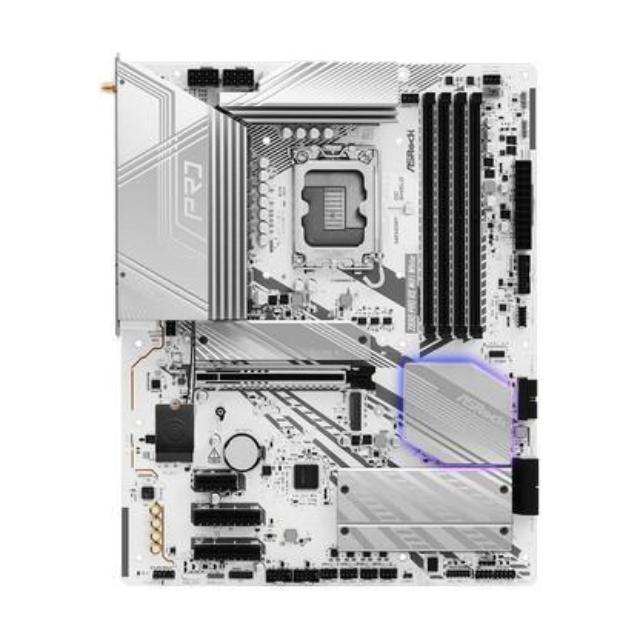Mainboard: (101, 49, 546, 598)
